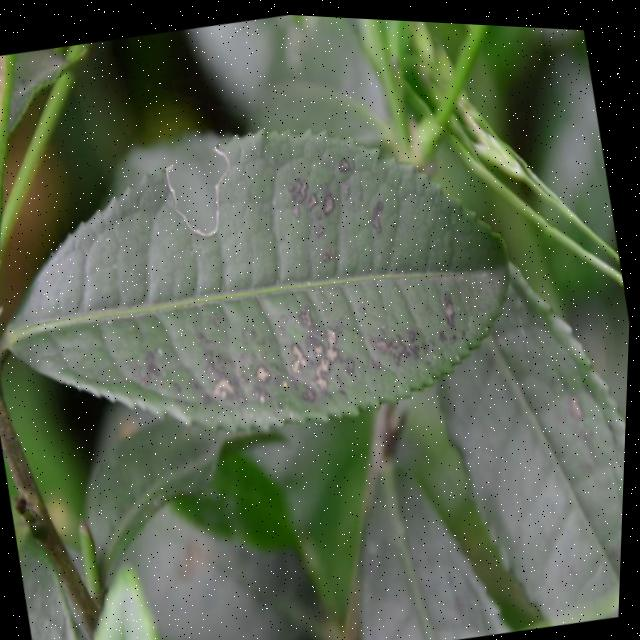Tea algae leaf spot: (55, 102, 516, 458)
